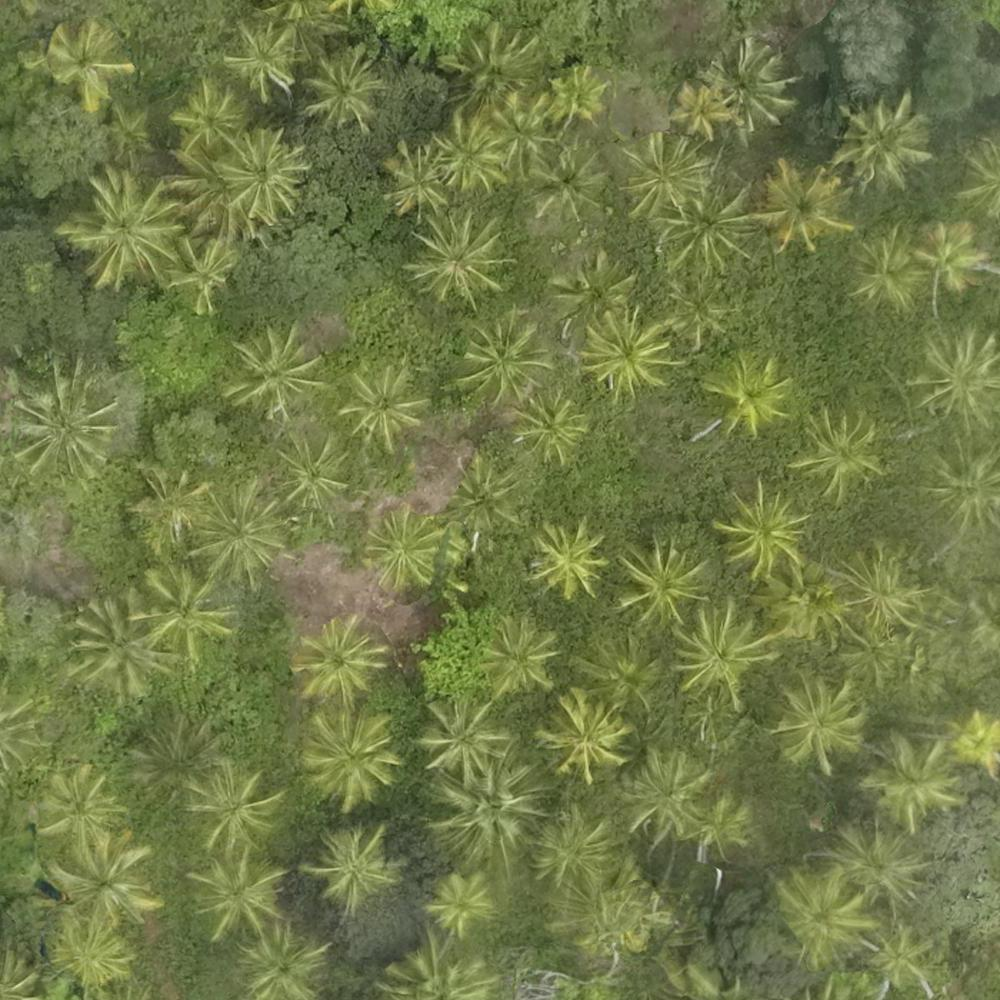Palm: (63, 169, 178, 283), (11, 364, 113, 482), (859, 730, 963, 828), (51, 835, 157, 931), (432, 767, 540, 860), (193, 484, 293, 584), (128, 564, 233, 658), (222, 322, 324, 418), (67, 598, 162, 696), (833, 541, 927, 638), (672, 604, 768, 698), (709, 485, 805, 578), (307, 708, 397, 806), (754, 158, 848, 251), (460, 312, 554, 405), (835, 97, 934, 185), (190, 851, 287, 940), (772, 868, 870, 954), (611, 541, 707, 625), (712, 38, 795, 135), (415, 213, 512, 296), (584, 307, 674, 396), (778, 669, 868, 758), (622, 748, 713, 835), (219, 129, 304, 222), (445, 29, 541, 111), (764, 558, 851, 648), (799, 411, 890, 497), (187, 760, 277, 846), (915, 325, 1000, 415), (541, 693, 632, 777), (822, 821, 918, 900), (530, 808, 618, 894), (625, 132, 711, 219), (298, 617, 386, 701), (310, 824, 398, 907), (705, 349, 790, 434), (269, 428, 353, 512), (663, 188, 751, 268), (418, 697, 512, 771), (925, 436, 1000, 528), (524, 145, 611, 224), (849, 229, 931, 312), (442, 456, 524, 539), (344, 364, 431, 442), (47, 21, 128, 104), (368, 505, 444, 591), (574, 635, 658, 712), (478, 615, 558, 695), (241, 925, 326, 1000), (52, 912, 133, 989), (167, 233, 242, 314), (528, 523, 605, 601), (551, 259, 631, 332), (433, 114, 507, 191), (43, 769, 121, 842), (224, 19, 302, 91), (493, 91, 555, 178), (919, 213, 986, 293), (425, 868, 497, 942), (309, 59, 386, 127), (136, 466, 207, 535), (175, 82, 247, 150), (662, 278, 735, 345), (520, 394, 594, 460), (382, 143, 448, 215), (541, 65, 608, 131), (668, 80, 733, 142), (943, 711, 1000, 775)
